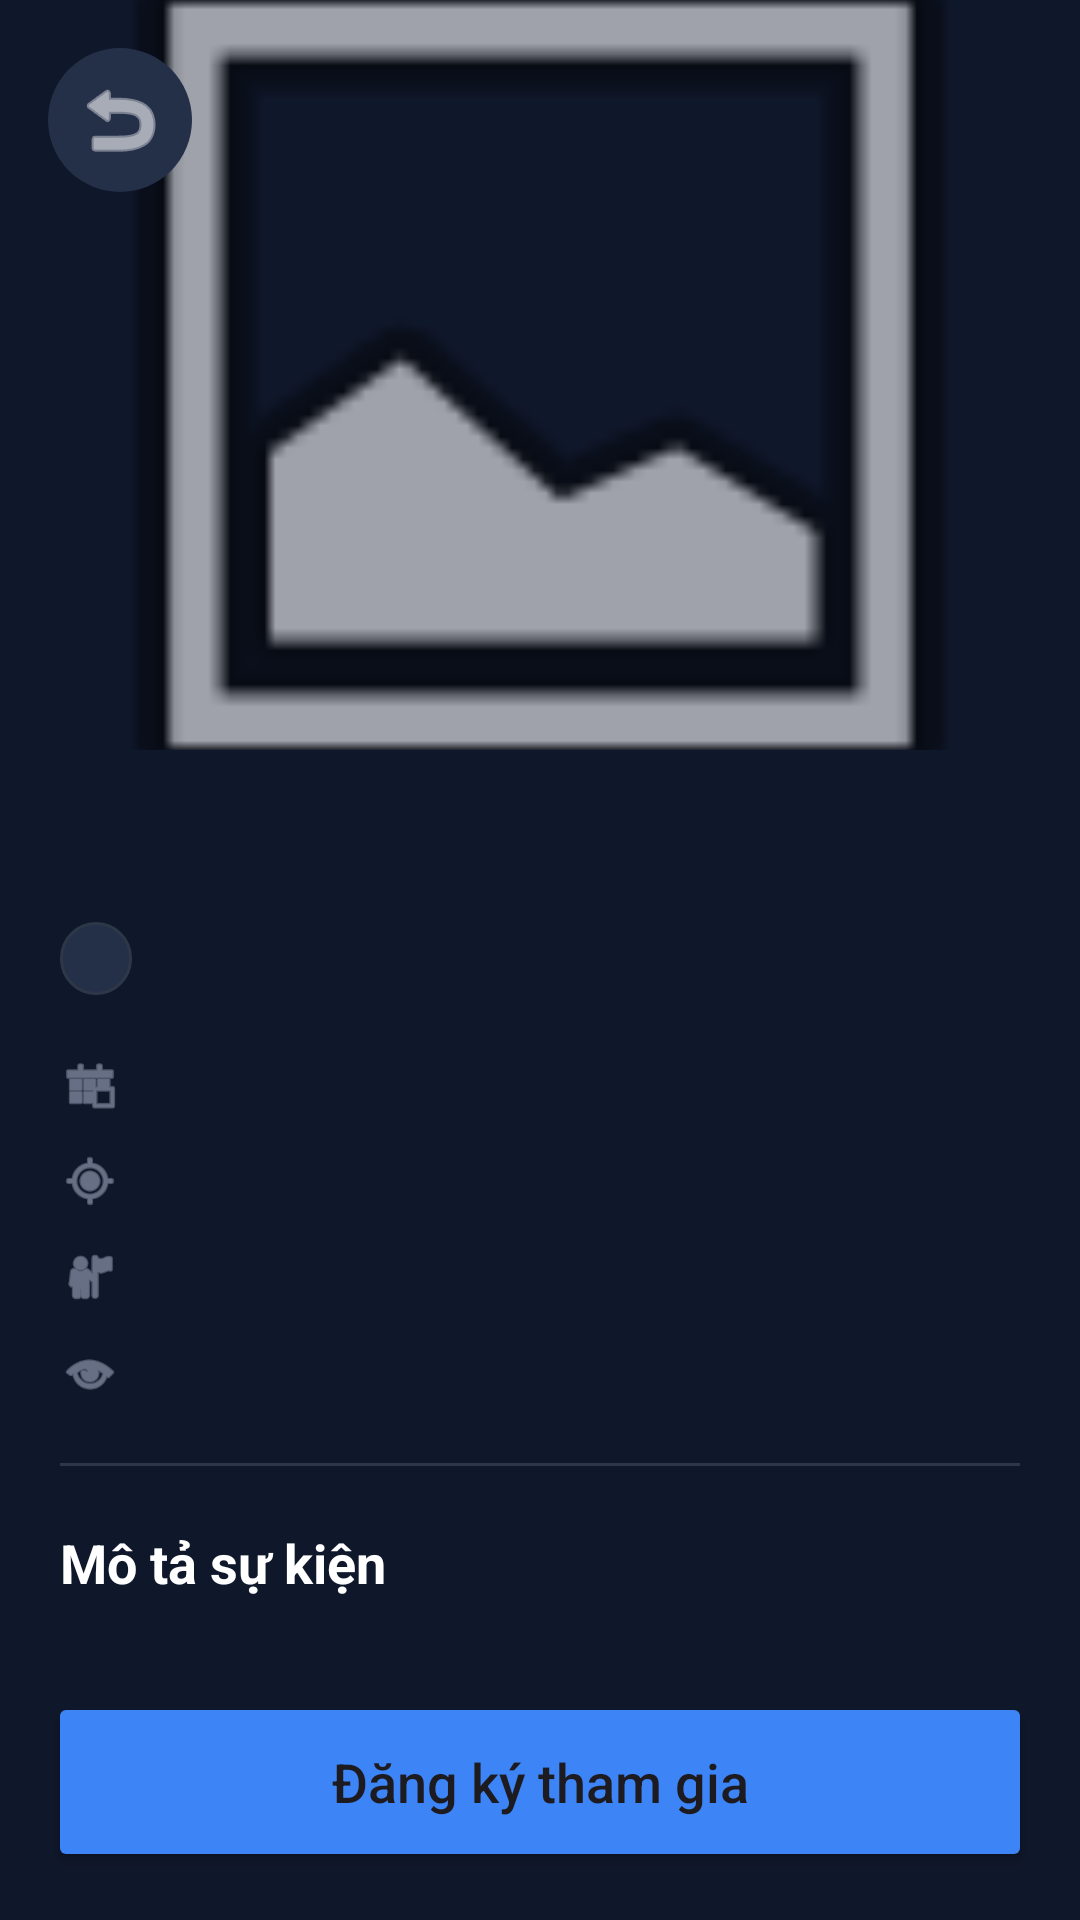

Icons on this 1080px x 1920px Android screen, each with the point to tap as [x,y]:
mylocation: [90,1181]
myplaces: [90,1277]
Quay lại: [120,120]
today: [90,1086]
view: [90,1374]
